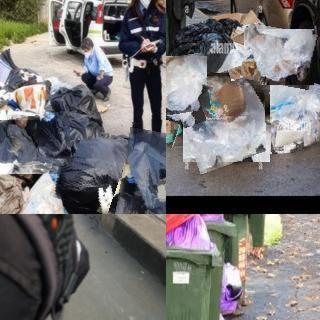Garbage: (177, 67, 276, 168), (54, 128, 153, 214), (242, 26, 316, 88), (0, 115, 71, 178), (167, 14, 236, 74), (116, 132, 166, 214), (264, 90, 320, 153), (51, 85, 103, 140), (166, 54, 209, 114), (212, 42, 258, 88), (166, 70, 188, 144)
